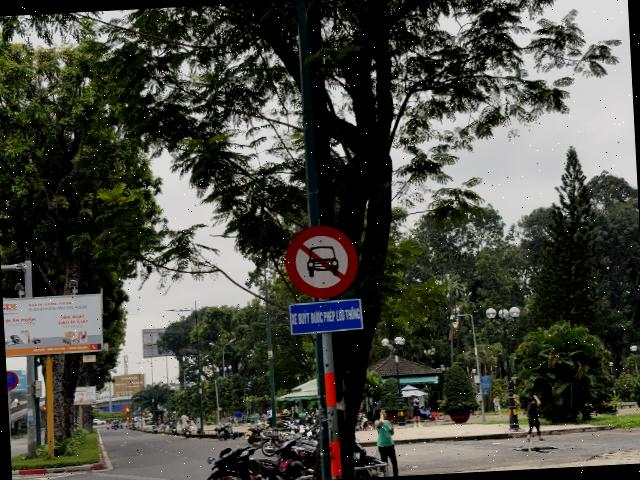cam-o-to: (284, 224, 359, 301)
